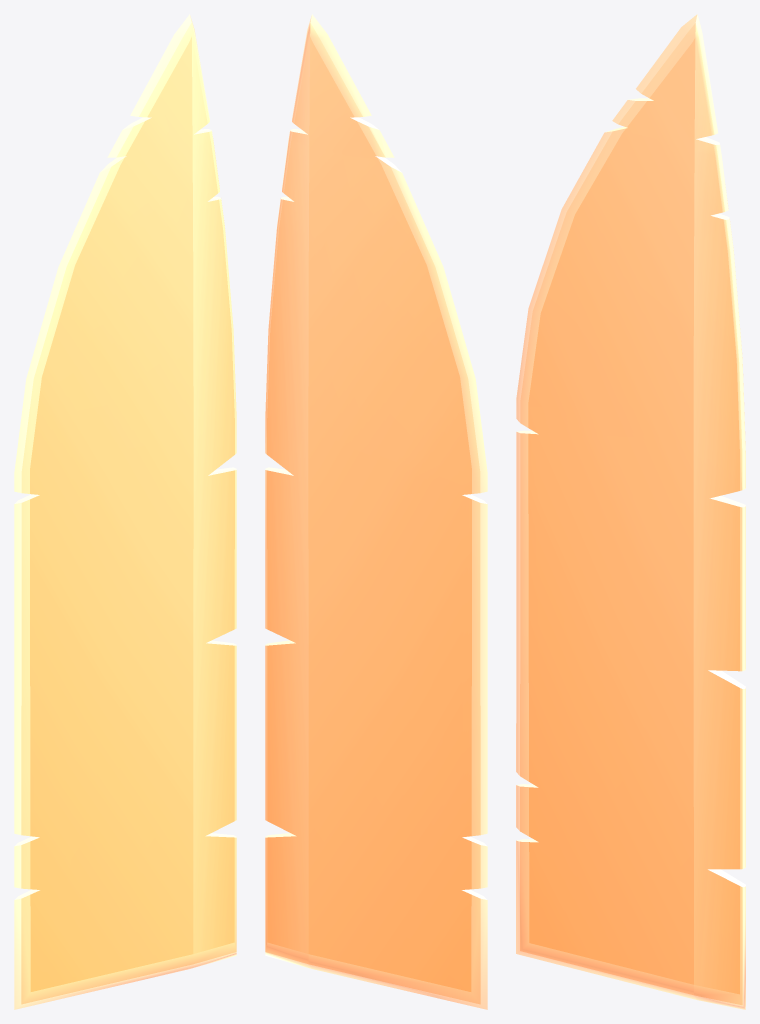
The model's file is wood_blade_scratched_076.glb.
3 renders of one model, left to right at view 1: azimuth 30°, elevation 25°; view 2: azimuth 150°, elevation 25°; view 3: azimuth 330°, elevation 25°, orthographic. The views are drawn at different scales.
Parts seen in each view (by area): view 1: wood_blade_scratched.076; view 2: wood_blade_scratched.076; view 3: wood_blade_scratched.076.
Part boxes in pixels (bbox=[...]): wood_blade_scratched.076: bbox=[14, 14, 236, 1009]; wood_blade_scratched.076: bbox=[265, 14, 487, 1009]; wood_blade_scratched.076: bbox=[516, 14, 745, 1009].
Bounding box in the file's own units: 2.79 × 11.43 × 0.1594.
Materials: 1 (1 with a texture image).
